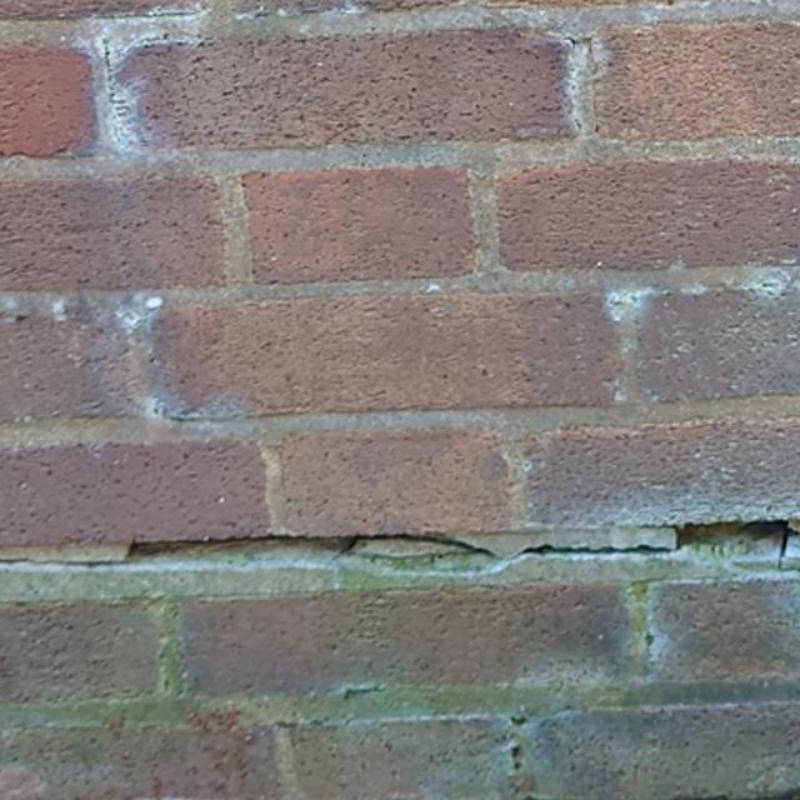pothole: (672, 521, 799, 571), (124, 534, 358, 561), (358, 535, 503, 561), (518, 544, 672, 555), (0, 559, 134, 571)
